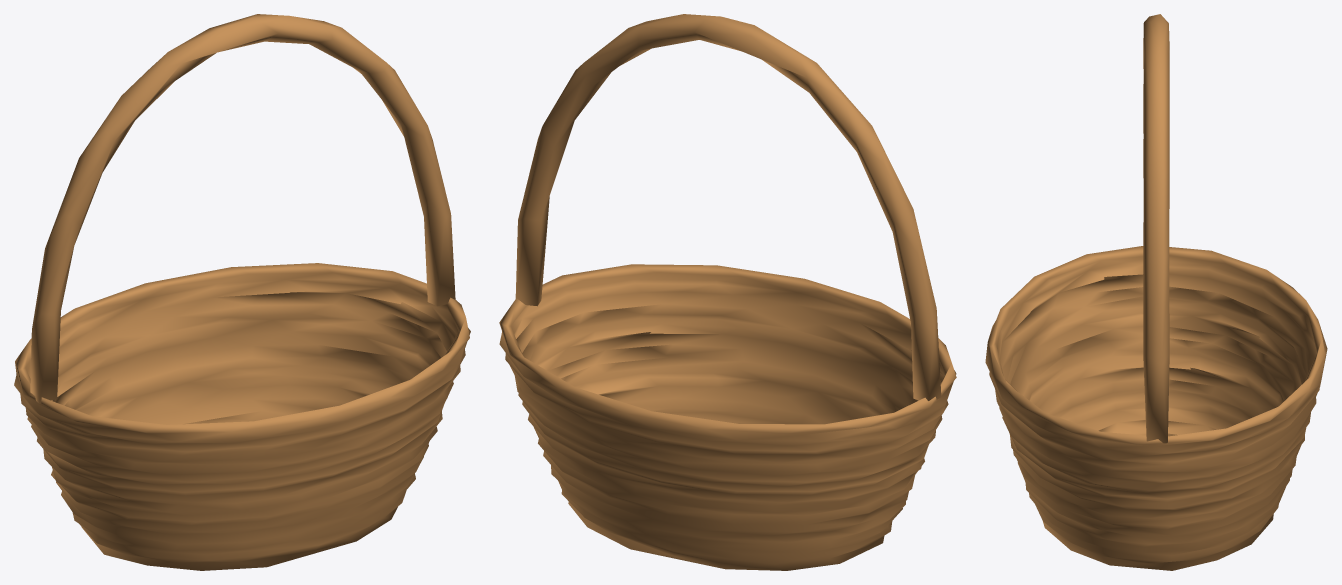
The model's file is canasta cafetera.fbx.
3 views of the same model, side by side, from view 1: azimuth 30°, elevation 25°; view 2: azimuth 150°, elevation 25°; view 3: azimuth 270°, elevation 25° (orthographic). The views are drawn at different scales.
Visible parts, largest first — view 1: Canasta_Asa; view 2: Canasta_Asa; view 3: Canasta_Asa.
Boxes of the visible parts, x1,y1,x2,y2 form: Canasta_Asa: (14,14,470,570); Canasta_Asa: (499,14,956,570); Canasta_Asa: (985,14,1327,570).
Size of the model in its own units: 40.14 by 45.1 by 29.64.
